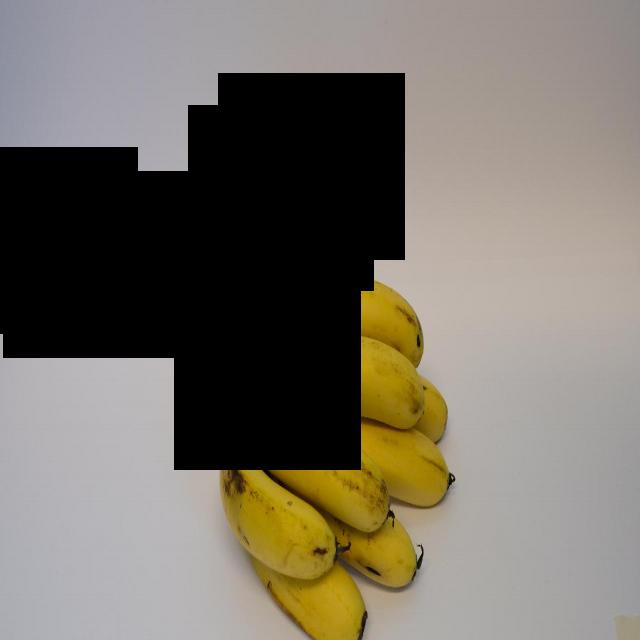banana: (248, 390, 388, 542), (213, 420, 336, 586), (271, 268, 436, 366), (266, 339, 434, 433), (320, 408, 457, 517), (248, 541, 372, 638)
